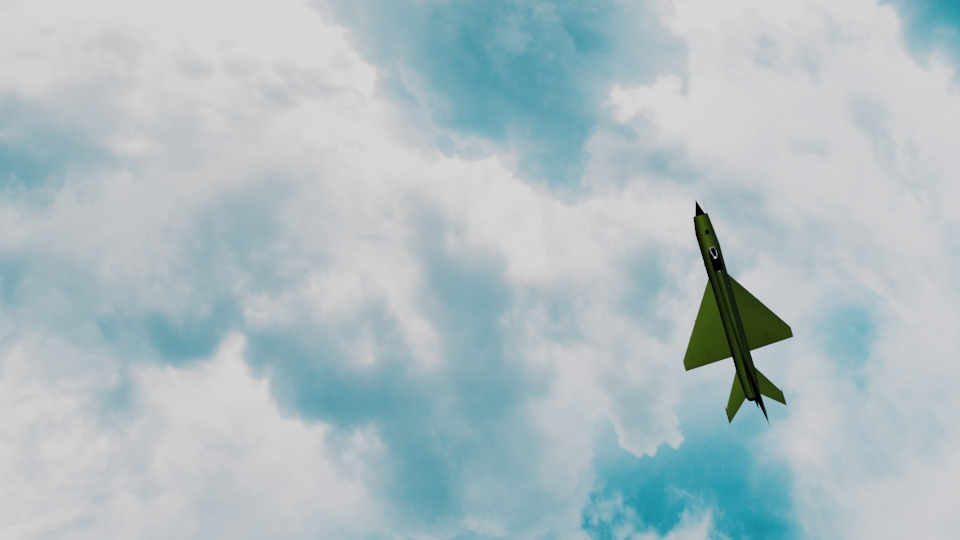plane: (682, 201, 792, 420)
